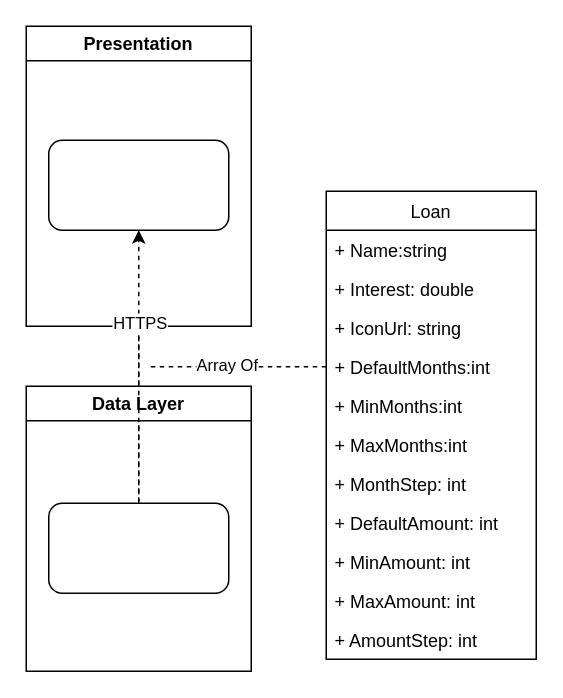
The diagram is 563 pixels wide and 698 high, and some of its shapes have lost their labels. Here are the shapes that lost their labels. From the top down, the centre of each, then its label:
pixel 138 184: Web Frontend React Application
pixel 138 547: Backend ASP.NET Core api
